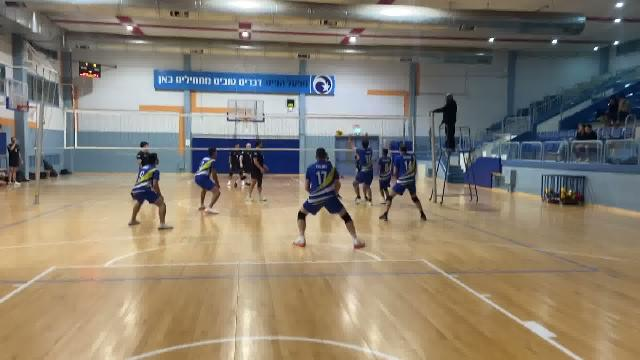ball: (333, 125, 346, 139)
